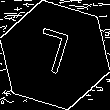L_S: (32, 26, 78, 84)
